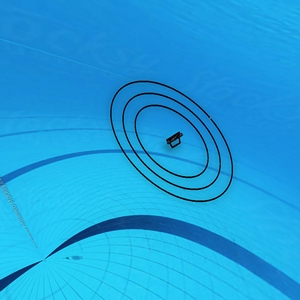circle: (100, 76, 244, 205)
submarine: (162, 130, 186, 148)
